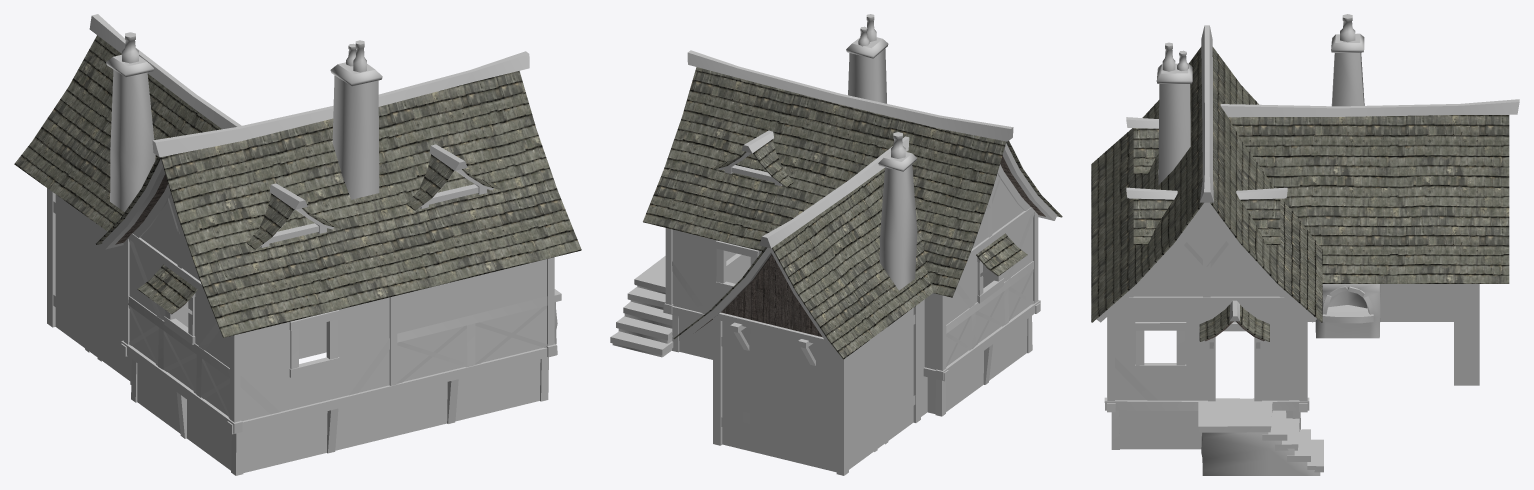
The model's file is mw_type_1_cottage_02_LOD1.FBX.
3 views of the same model, side by side, from view 1: azimuth 30°, elevation 25°; view 2: azimuth 150°, elevation 25°; view 3: azimuth 270°, elevation 25° (orthographic). The views are drawn at different scales.
Visible parts, largest first — view 1: mw_type_1_cottage_02_roof, mw_type_1_cottage_02_stone, mw_type_1_cottage_02_wood; view 2: mw_type_1_cottage_02_roof, mw_type_1_cottage_02_stone, mw_type_1_cottage_02_wood; view 3: mw_type_1_cottage_02_roof, mw_type_1_cottage_02_stone, mw_type_1_cottage_02_wood.
Boxes of the visible parts, box(x1,y1,x2,y2) form: mw_type_1_cottage_02_roof: box(14, 35, 581, 337); mw_type_1_cottage_02_stone: box(55, 32, 561, 472); mw_type_1_cottage_02_wood: box(47, 14, 557, 475); mw_type_1_cottage_02_roof: box(643, 67, 1062, 359); mw_type_1_cottage_02_stone: box(610, 14, 1032, 472); mw_type_1_cottage_02_wood: box(662, 50, 1057, 475); mw_type_1_cottage_02_roof: box(1091, 47, 1509, 341); mw_type_1_cottage_02_stone: box(1115, 14, 1453, 475); mw_type_1_cottage_02_wood: box(1096, 25, 1519, 449).
Size of what is drawn, in the model's own units: 1301 by 1147 by 1322.
